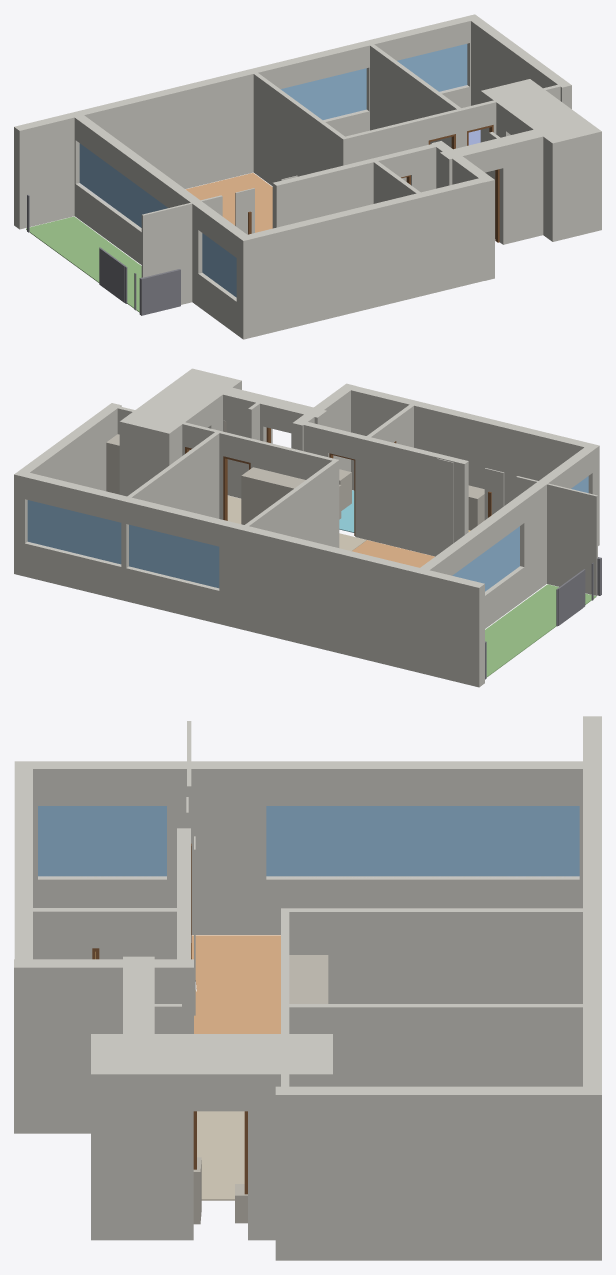
3 renders of one model, top to bottom at view 1: azimuth 30°, elevation 25°; view 2: azimuth 150°, elevation 25°; view 3: azimuth 270°, elevation 25°, orthographic. The views are drawn at different scales.
Visible parts, largest first — view 1: walls, floor_6_Outdoor, railings, window_2, window_4, floor_0_Living_Room, window_8, window_0; view 2: walls, window_8, window_4, floor_6_Outdoor, furniture_0_closet, window_2, railings, floor_0_Living_Room, furniture_1_closet, floor_1_Entry, furniture_6_appliance, furniture_9_sink; view 3: walls, window_2, window_0, floor_0_Living_Room, floor_1_Entry, furniture_0_closet.
Part boxes in pixels (bbox=[...]): walls: bbox=[14, 14, 601, 339]; floor_6_Outdoor: bbox=[26, 216, 141, 312]; railings: bbox=[27, 194, 180, 315]; window_2: bbox=[79, 143, 167, 227]; window_4: bbox=[280, 68, 366, 119]; floor_0_Living_Room: bbox=[186, 173, 272, 232]; window_8: bbox=[397, 44, 467, 91]; window_0: bbox=[202, 233, 236, 297]; walls: bbox=[14, 368, 599, 687]; window_8: bbox=[27, 500, 121, 564]; window_4: bbox=[129, 524, 219, 588]; floor_6_Outdoor: bbox=[485, 584, 596, 677]; furniture_0_closet: bbox=[241, 467, 305, 524]; window_2: bbox=[452, 526, 519, 591]; railings: bbox=[485, 557, 601, 679]; floor_0_Living_Room: bbox=[352, 540, 434, 567]; furniture_1_closet: bbox=[106, 434, 119, 494]; floor_1_Entry: bbox=[227, 495, 366, 551]; furniture_6_appliance: bbox=[468, 485, 484, 530]; furniture_9_sink: bbox=[339, 469, 351, 510]; walls: bbox=[14, 716, 601, 1260]; window_2: bbox=[266, 806, 579, 876]; window_0: bbox=[38, 806, 166, 876]; floor_0_Living_Room: bbox=[191, 935, 280, 1033]; floor_1_Entry: bbox=[197, 1111, 244, 1200]; furniture_0_closet: bbox=[289, 955, 328, 1003].
Bounding box in the file's own units: 13.21 × 2.72 × 8.67.
